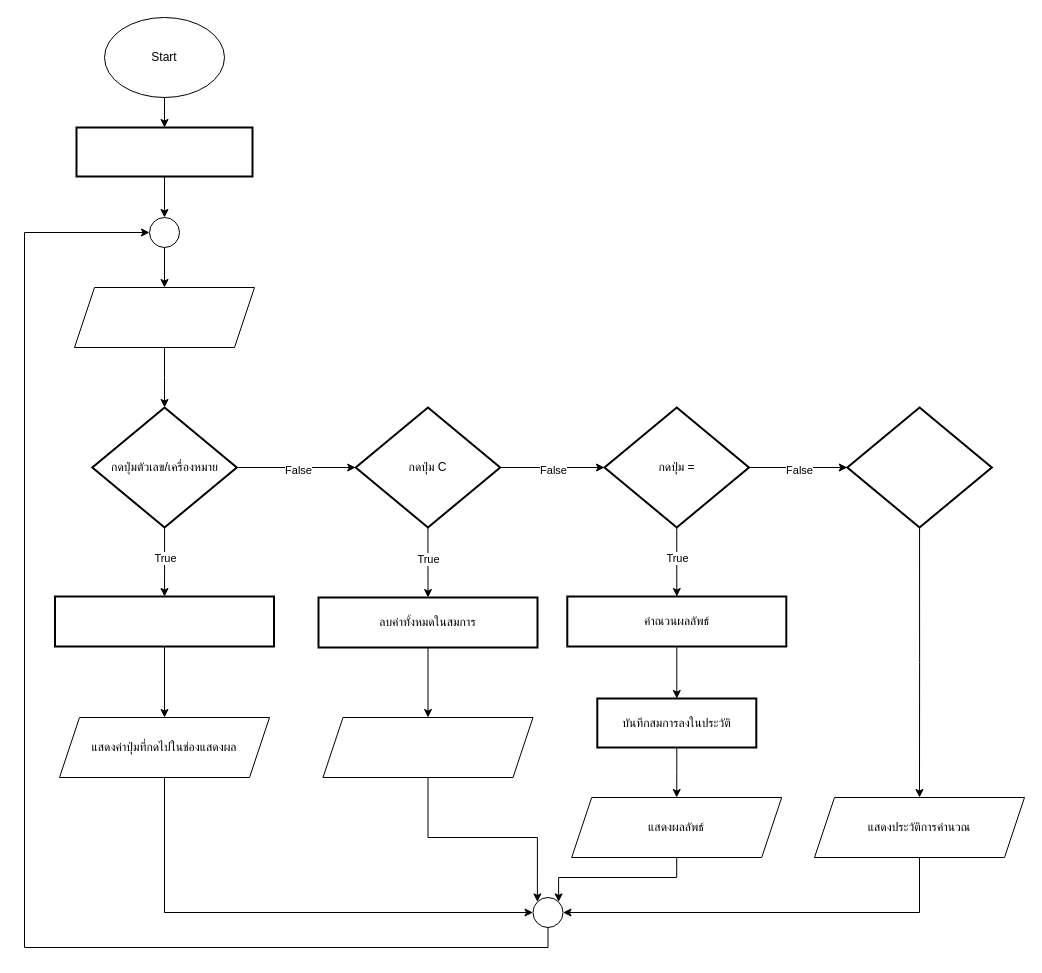
Some shapes in this 1042 by 973 pixel diagram are drawn without their labels. The centre of each missing label's shape, as x and y in pixels:
"กดปุ่ม History" goes at point 919,467.
"รับค่าการกดปุ่มจากผู้ใช้" goes at point 164,317.
"ล้างหน้าจอ" goes at point 427,747.
"สร้างหน้าต่าง GUI" goes at point 164,151.
"เพิ่มค่าลงในสมการ" goes at point 164,621.
